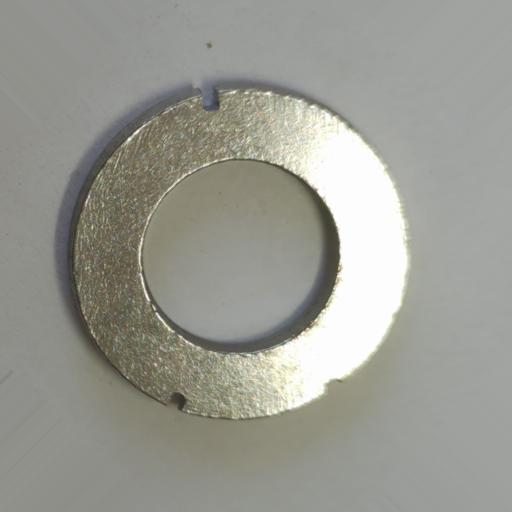burr: (198, 85, 222, 112), (165, 390, 188, 414), (324, 377, 344, 395)
